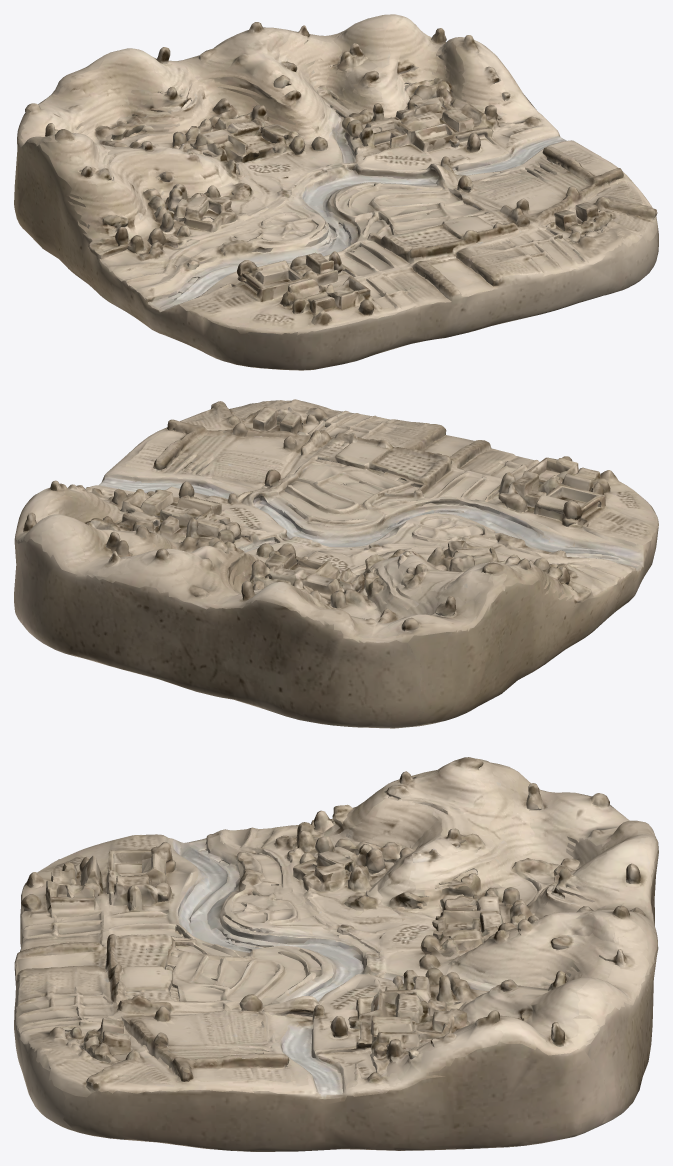
Rendered from pujiang.min.glb.
3 renders of one model, top to bottom at view 1: azimuth 30°, elevation 25°; view 2: azimuth 150°, elevation 25°; view 3: azimuth 270°, elevation 25°, orthographic. The views are drawn at different scales.
Parts seen in each view (by area): view 1: geometry_0; view 2: geometry_0; view 3: geometry_0.
Boxes of the visible parts, bbox=[...] form: geometry_0: bbox=[14, 14, 658, 370]; geometry_0: bbox=[14, 399, 658, 728]; geometry_0: bbox=[14, 757, 658, 1151].
Bounding box in the file's own units: 0.3499 × 0.0873 × 0.3461.
Materials: 1 (1 with a texture image).
